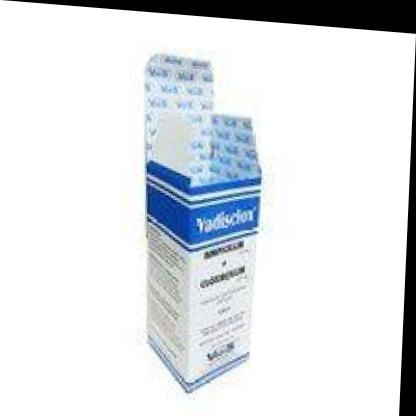trash: (145, 53, 260, 391)
